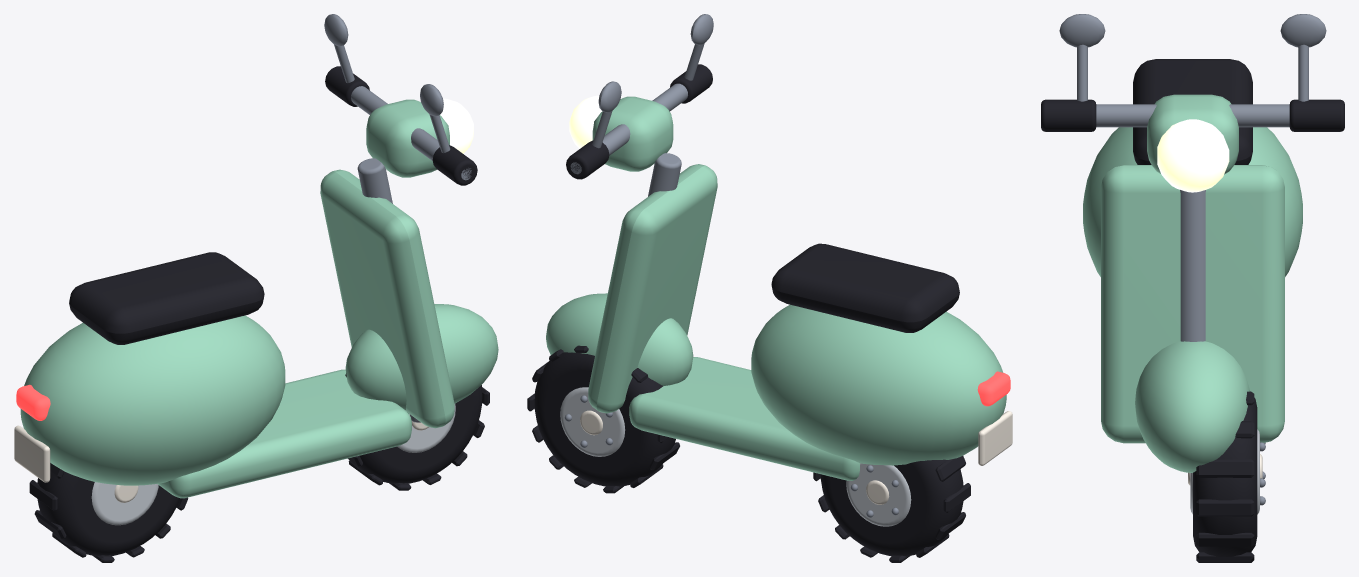
Rendered from scooter.glb.
3 views of the same model, side by side, from view 1: azimuth 30°, elevation 25°; view 2: azimuth 150°, elevation 25°; view 3: azimuth 270°, elevation 25° (orthographic). The views are drawn at different scales.
Parts seen in each view (by area): view 1: scooter; view 2: scooter; view 3: scooter.
Boxes of the visible parts, box(x1,y1,x2,y2) form: scooter: box(14, 14, 498, 562); scooter: box(527, 14, 1012, 562); scooter: box(1041, 14, 1344, 562).
Bounding box in the file's own units: 1.36 × 1.24 × 0.66.
Materials: 1 (1 with a texture image).
